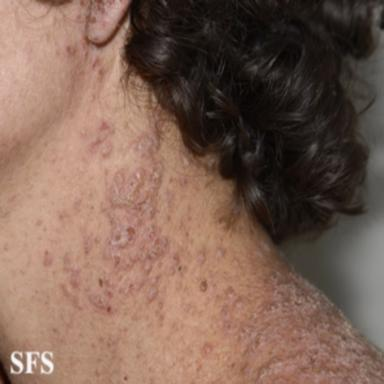Darier_s-Disease: (60, 0, 384, 382)
